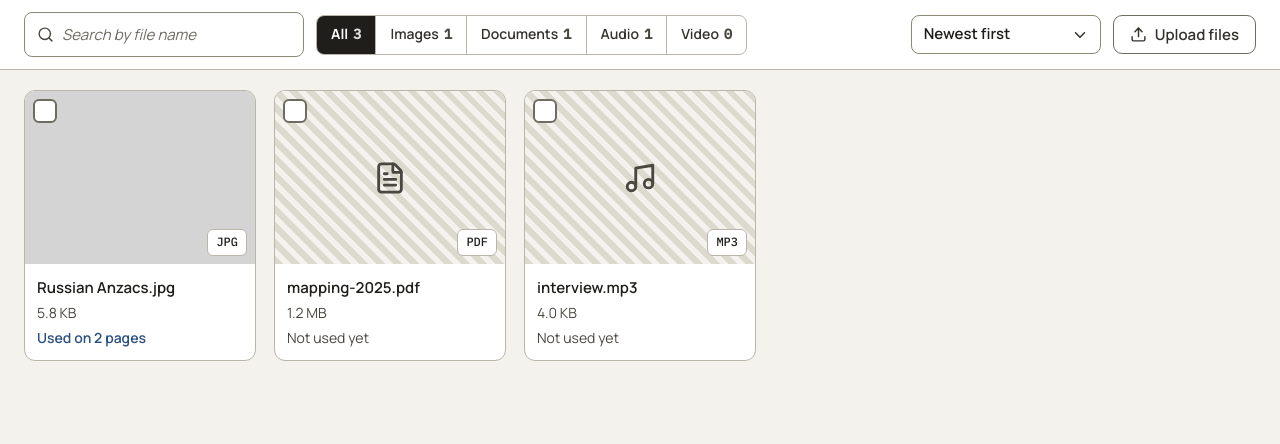
Test case: MediaBrowser in manage mode › asks before deleting, then deletes each selected file and reports the ones that were refused
Expected: the link "Russian Anzacs.jpg" is shown, [37,277,175,298]
Click the checkbox named "Select Russian Anzacs.jpg" at [140, 178], box [25,91,255,264]
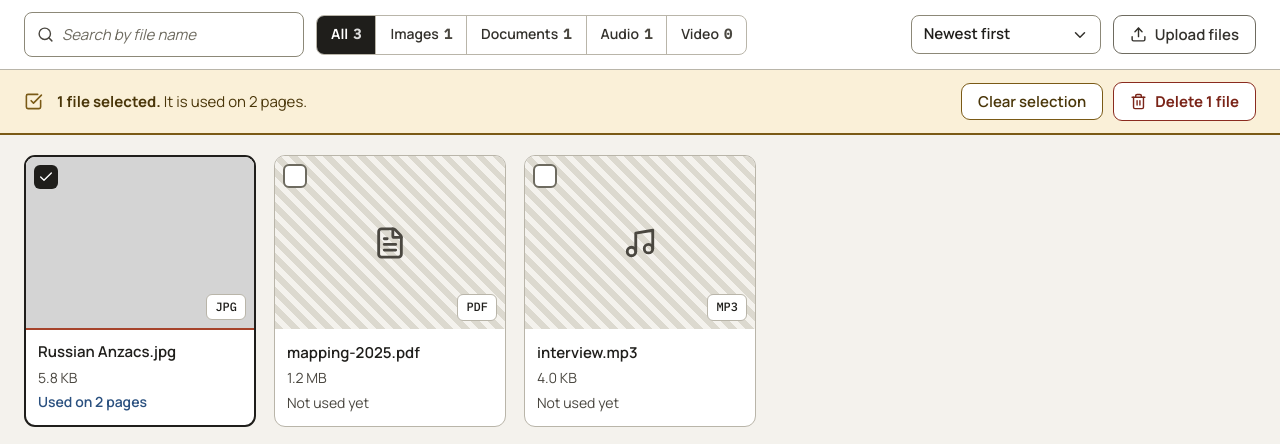
Click the checkbox named "Select mapping-2025.pdf" at [390, 243], box [275,156,505,329]
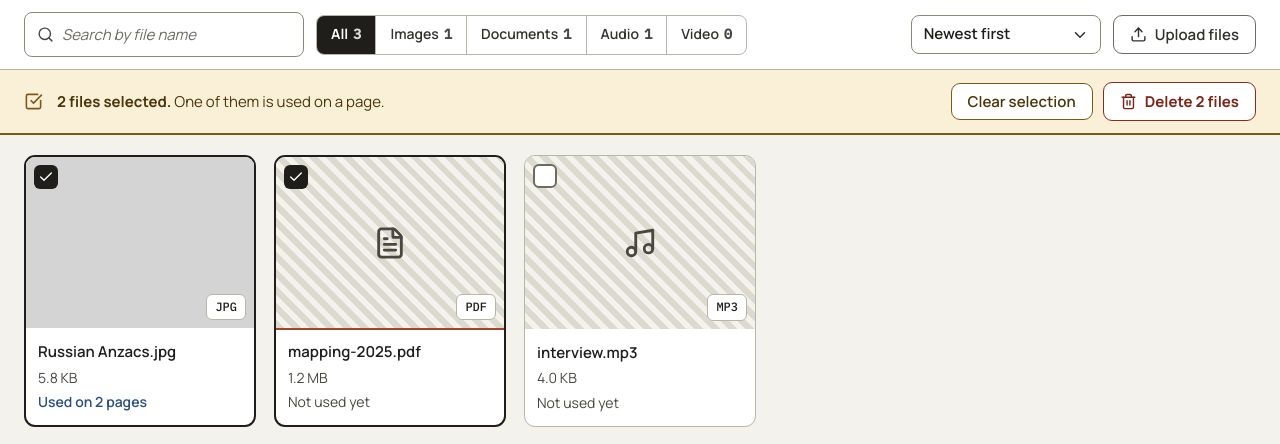
Click the button "Delete 2 files" at [1179, 102], box [1103,82,1256,121]
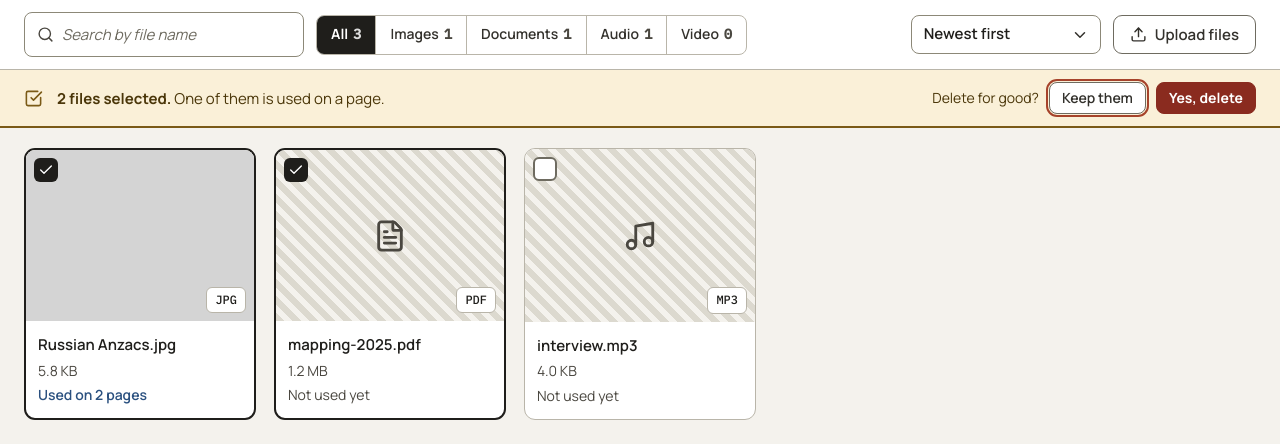
Click the button "Yes, delete" at [1206, 98], box [1156,82,1256,114]
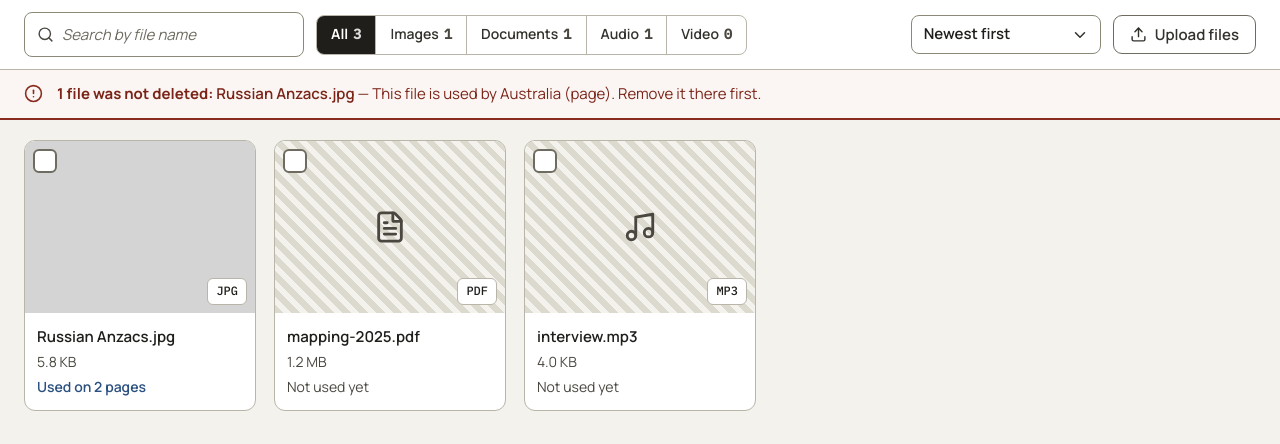
Expected: the message shows "1 file was not deleted", [0,70,1279,120]
Expected: the message shows "Russian Anzacs.jpg", [216,83,354,104]
Expected: the message shows "used by Australia", [372,83,761,104]
